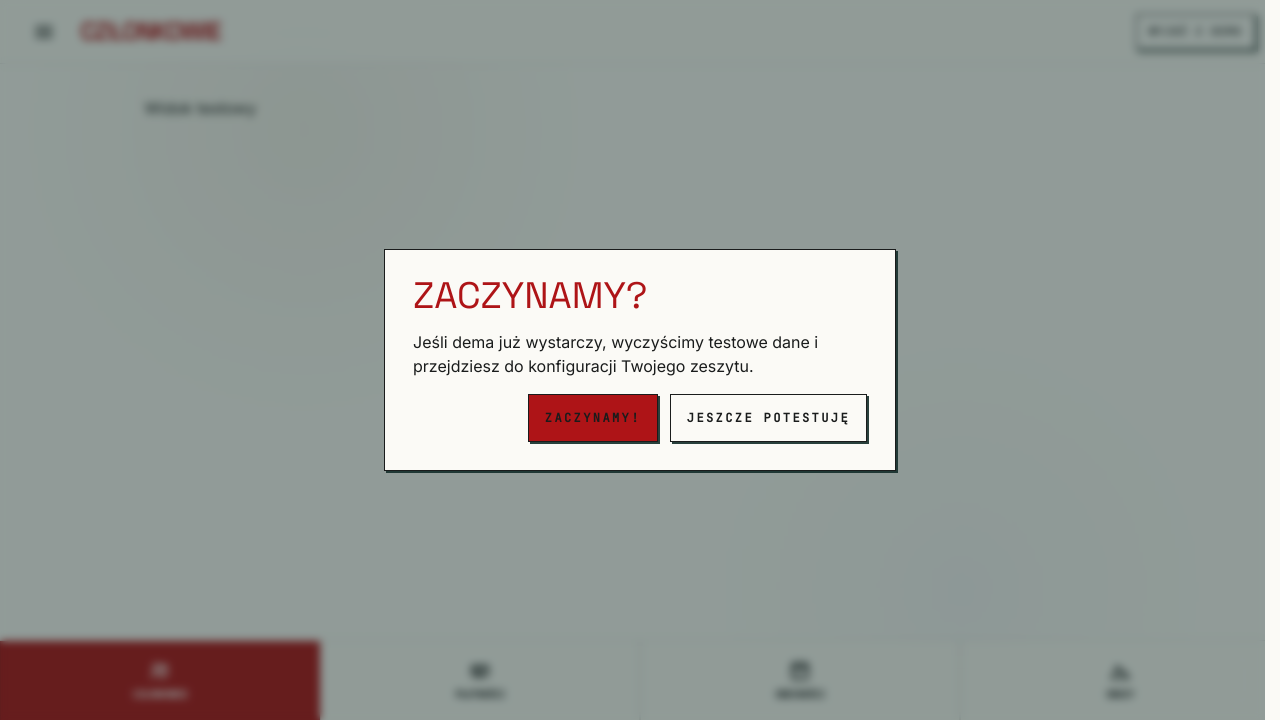
Scenario: AppShell › keeps demo-exit failures visible above the modal
The image size is (1280, 720).
Click the button with test id "confirm-leave-demo-button" at x=593, y=418, box x1=528 y1=394 x2=658 y2=442
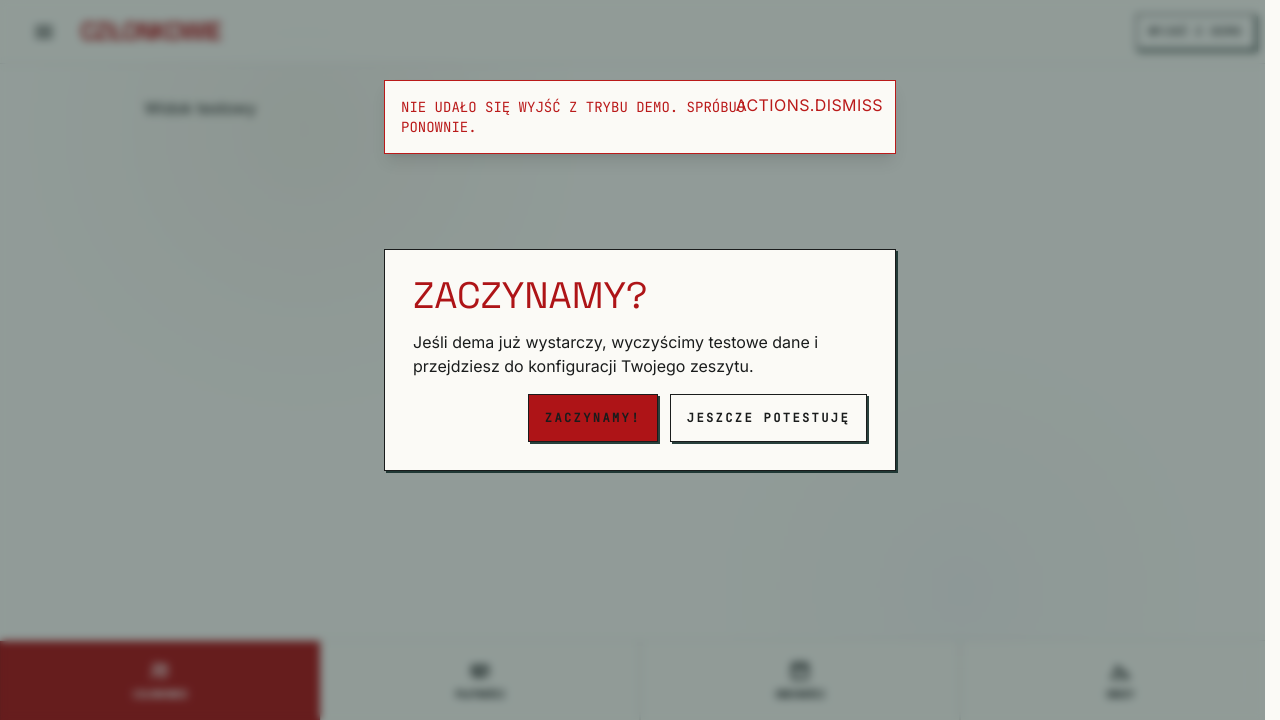
Result: the message with class "floating-error-alert--modal" shows "Nie udało się wyjść z trybu demo. Spróbuj ponownie." at x1=401 y1=98 x2=745 y2=136
